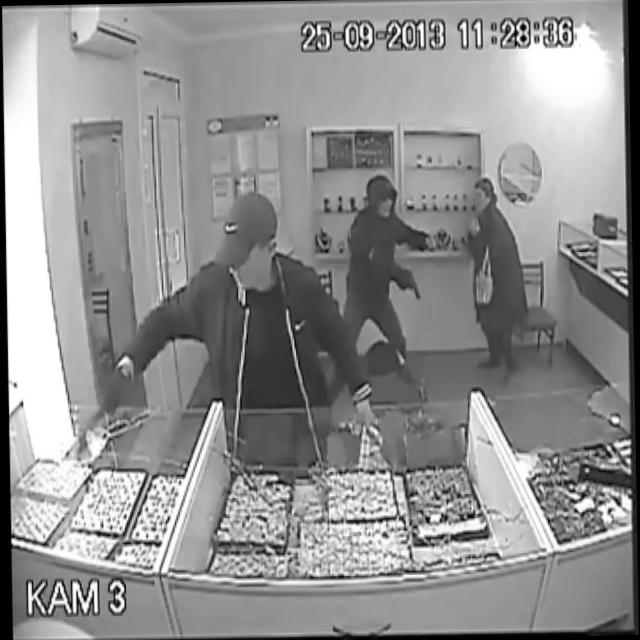gun: (382, 250, 426, 313)
person: (136, 204, 344, 452), (448, 162, 530, 384)
person with a gun: (333, 172, 442, 402)
